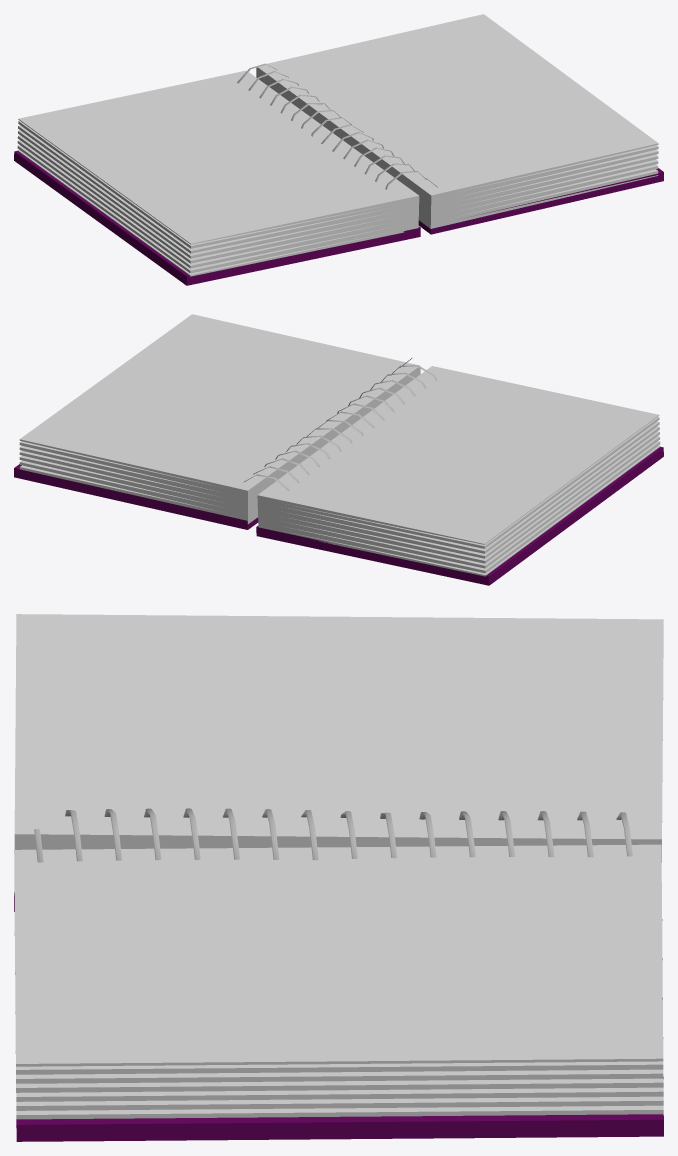
Rendered from openNotebook2.fbx.
3 views of the same model, one above another, from view 1: azimuth 30°, elevation 25°; view 2: azimuth 150°, elevation 25°; view 3: azimuth 270°, elevation 25° (orthographic). The views are drawn at different scales.
Parts seen in each view (by area): view 1: open_notebook2; view 2: open_notebook2; view 3: open_notebook2.
Boxes of the visible parts, <box> form: open_notebook2: <box>14,14,663,285</box>; open_notebook2: <box>14,314,663,585</box>; open_notebook2: <box>14,614,663,1141</box>.
Bounding box in the file's own units: 1.35 × 0.1581 × 0.8518.
